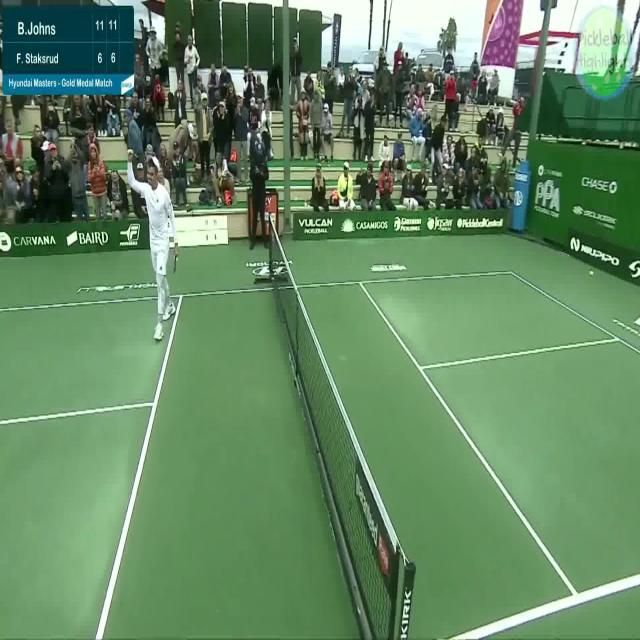ball: (589, 270, 595, 278)
